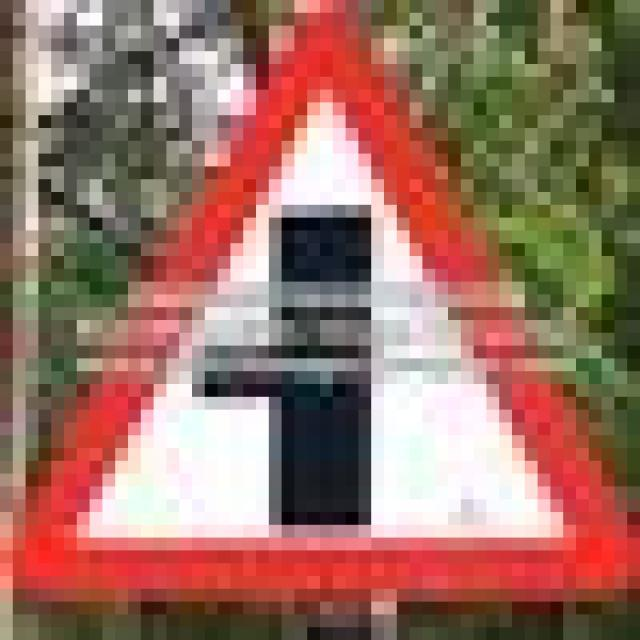side road left: (21, 28, 620, 594)
